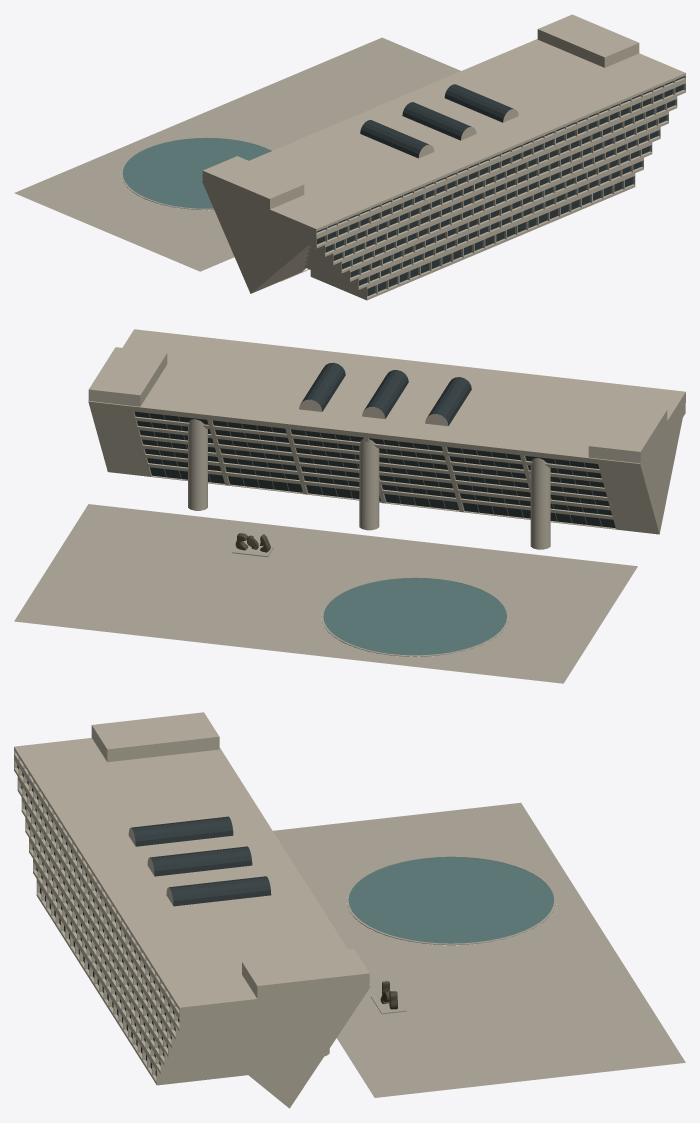
File: dallas-city-hall-far.glb
3 views of the same model, one above another, from view 1: azimuth 30°, elevation 25°; view 2: azimuth 150°, elevation 25°; view 3: azimuth 270°, elevation 25° (orthographic). The views are drawn at different scales.
Visible parts, largest first — view 1: dallas-city-hall-0-concrete, dallas-city-hall-0-paving, dallas-city-hall-0-glass, dallas-city-hall-0-water; view 2: dallas-city-hall-0-concrete, dallas-city-hall-0-paving, dallas-city-hall-0-glass, dallas-city-hall-0-water, dallas-city-hall-0-joint; view 3: dallas-city-hall-0-concrete, dallas-city-hall-0-paving, dallas-city-hall-0-water, dallas-city-hall-0-glass.
Boxes of the visible parts, bbox=[...] form: dallas-city-hall-0-concrete: bbox=[202, 14, 685, 300]; dallas-city-hall-0-paving: bbox=[14, 37, 460, 271]; dallas-city-hall-0-glass: bbox=[316, 76, 683, 296]; dallas-city-hall-0-water: bbox=[122, 138, 271, 208]; dallas-city-hall-0-concrete: bbox=[88, 329, 685, 549]; dallas-city-hall-0-paving: bbox=[14, 504, 637, 683]; dallas-city-hall-0-glass: bbox=[134, 362, 615, 527]; dallas-city-hall-0-water: bbox=[323, 578, 506, 655]; dallas-city-hall-0-joint: bbox=[134, 412, 602, 526]; dallas-city-hall-0-concrete: bbox=[14, 712, 370, 1108]; dallas-city-hall-0-paving: bbox=[273, 802, 685, 1097]; dallas-city-hall-0-water: bbox=[348, 857, 553, 943]; dallas-city-hall-0-glass: bbox=[17, 765, 271, 1076].
Size of the model in its own units: 201 by 37.19 by 179.
